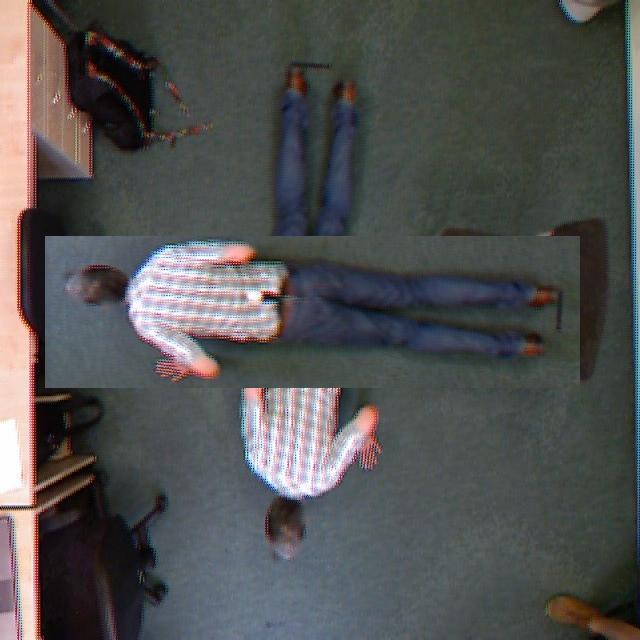Fall: (65, 244, 617, 353)
